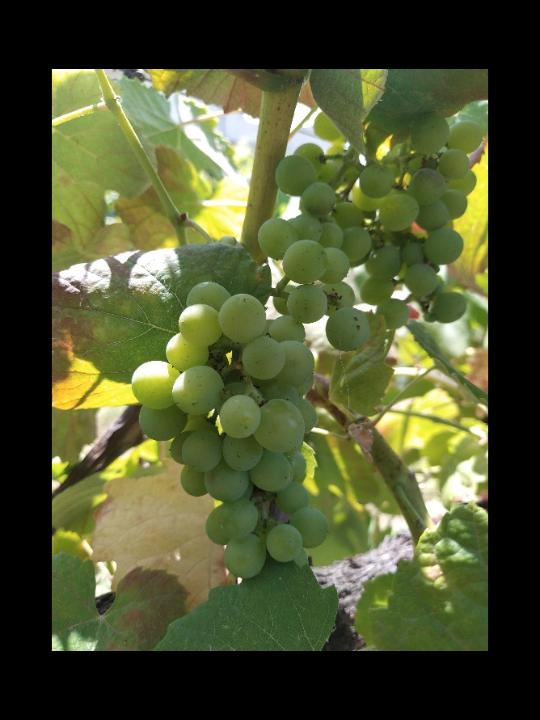grape: (130, 280, 329, 580), (257, 143, 412, 355)
